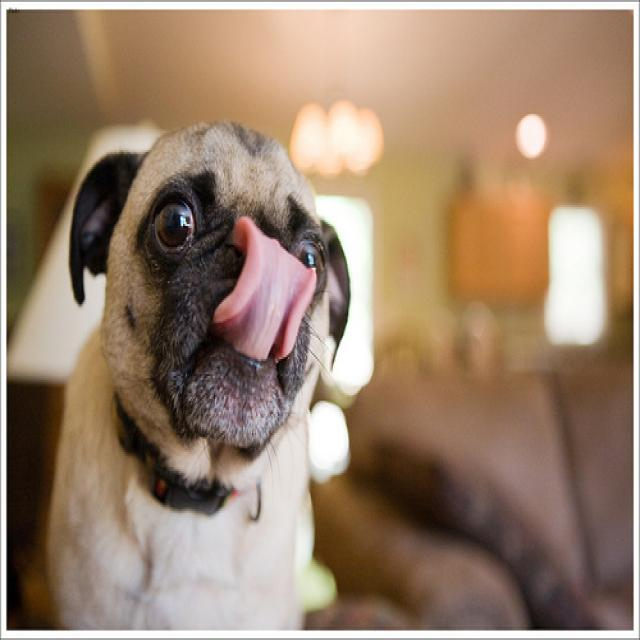dog-pug: (38, 112, 362, 636)
